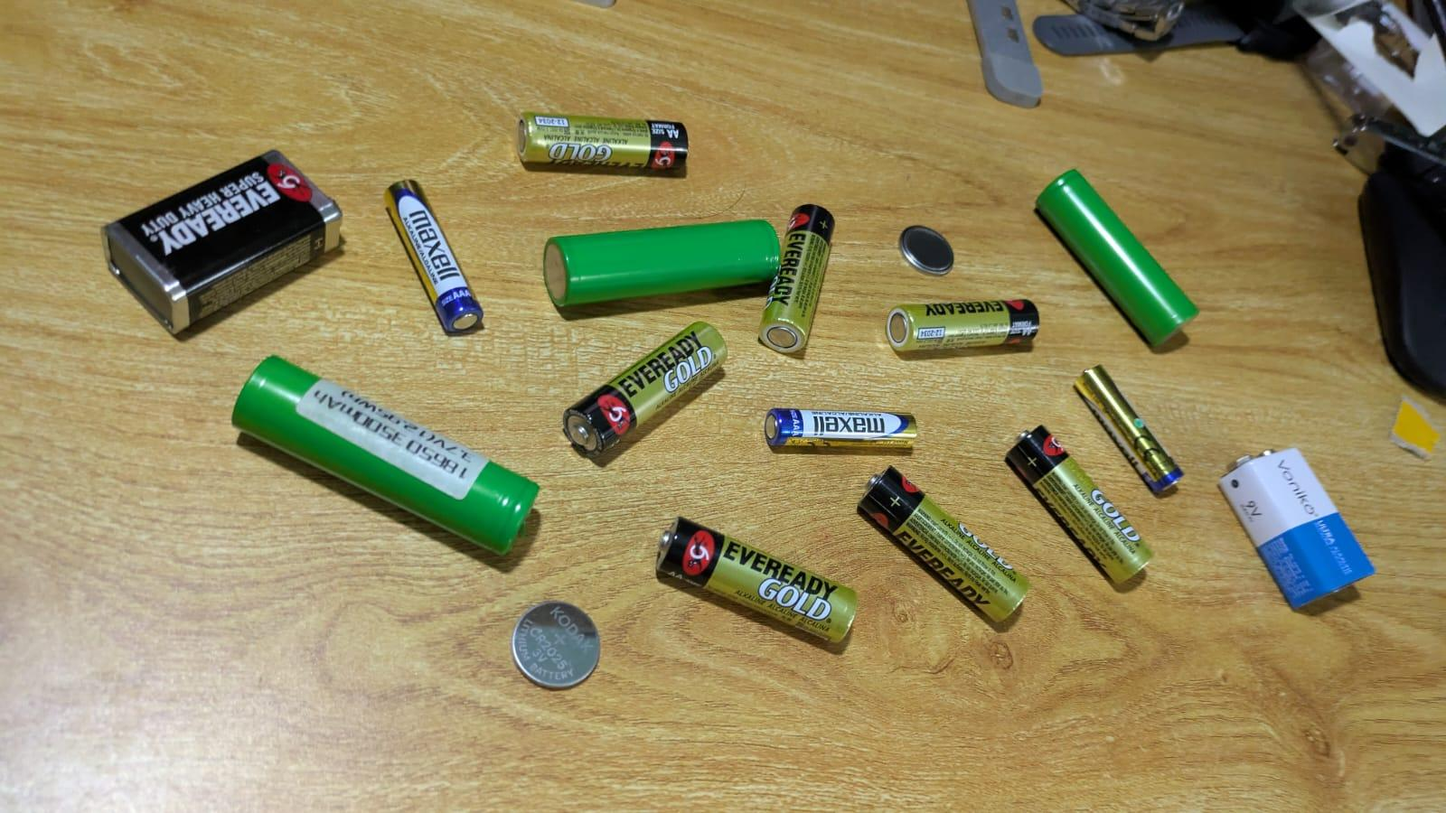9V: (100, 149, 345, 336), (1217, 446, 1376, 610)
AA: (856, 464, 1029, 622), (658, 512, 858, 643), (1006, 424, 1159, 586), (559, 320, 731, 461), (755, 204, 837, 354), (515, 113, 692, 174), (888, 299, 1038, 355)
AAA: (384, 178, 484, 336), (1073, 366, 1182, 497), (765, 408, 909, 452)
COIN: (508, 600, 603, 691), (897, 225, 956, 278)
